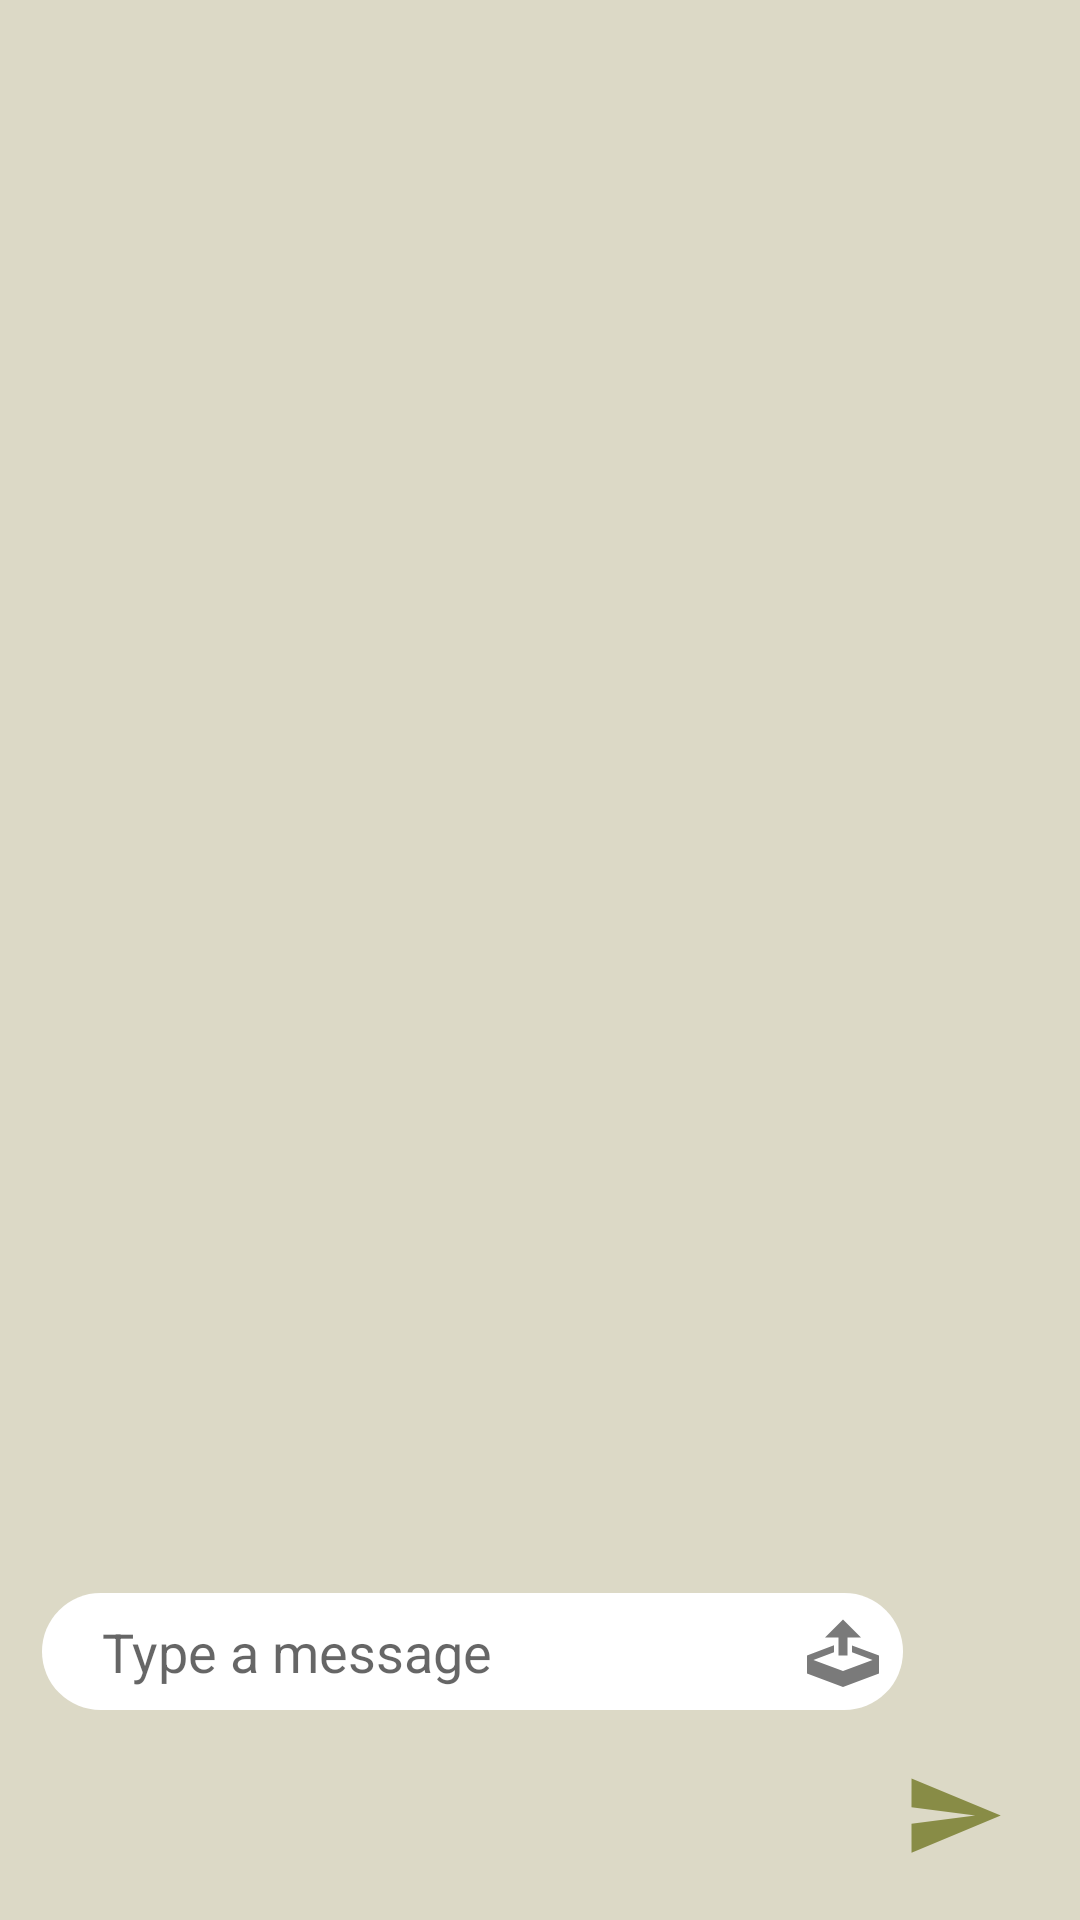

Locate icon controls on the screen. Image size 1080×1920, boxes as (x1, y1, x2, y2).
upload: (807, 1620, 879, 1687)
